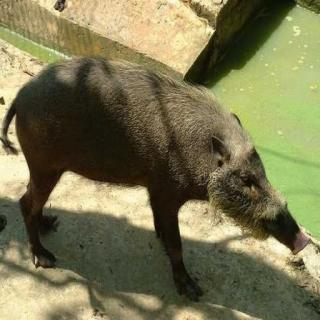Pig: (8, 42, 311, 306)
